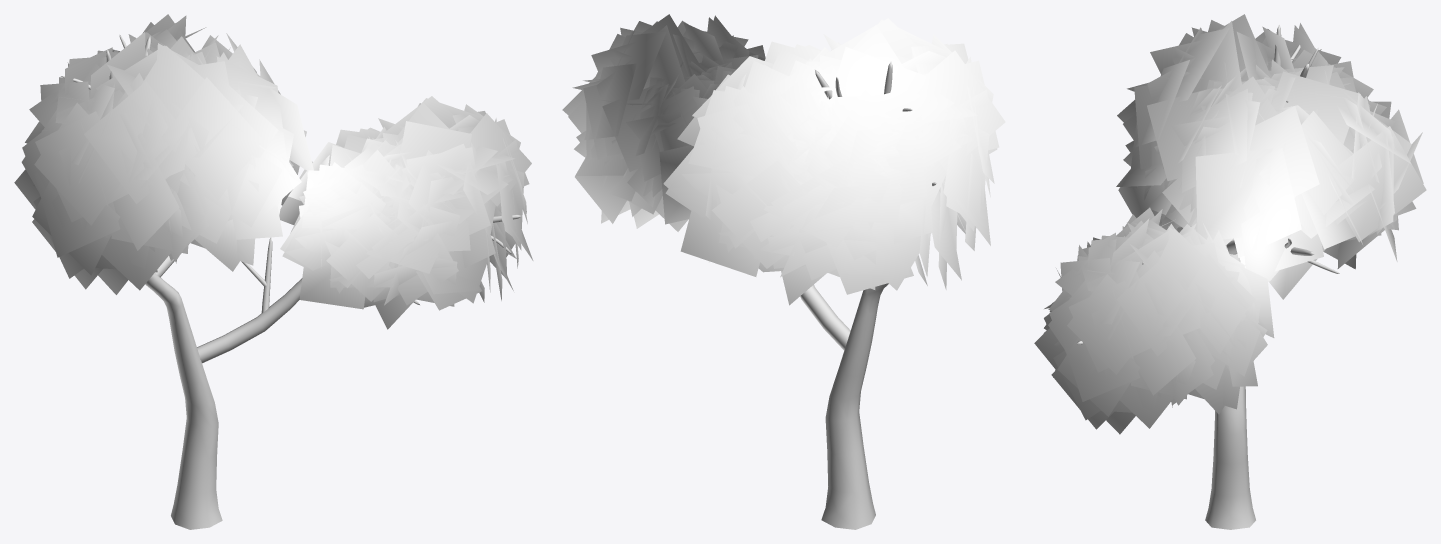
The model's file is MapleTree_1.glb.
3 views of the same model, side by side, from view 1: azimuth 30°, elevation 25°; view 2: azimuth 150°, elevation 25°; view 3: azimuth 270°, elevation 25° (orthographic). The views are drawn at different scales.
Size of the model in its own units: 6.23 by 6.64 by 4.9.
2 materials, 1 textured.
